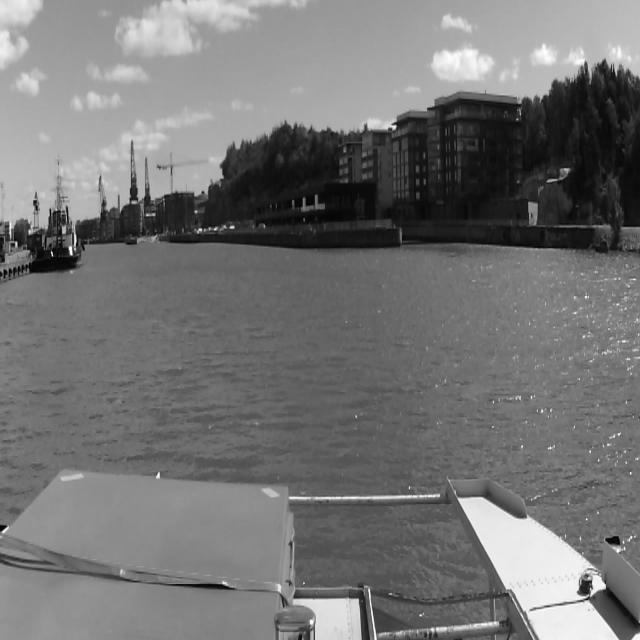ship: (39, 154, 81, 271)
